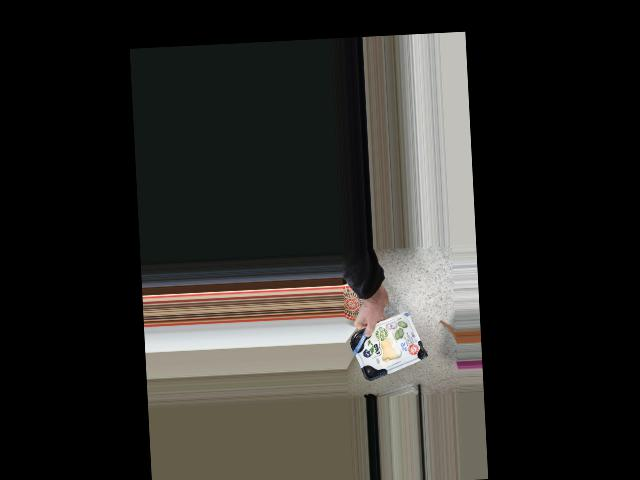cheese: (356, 318, 420, 372)
